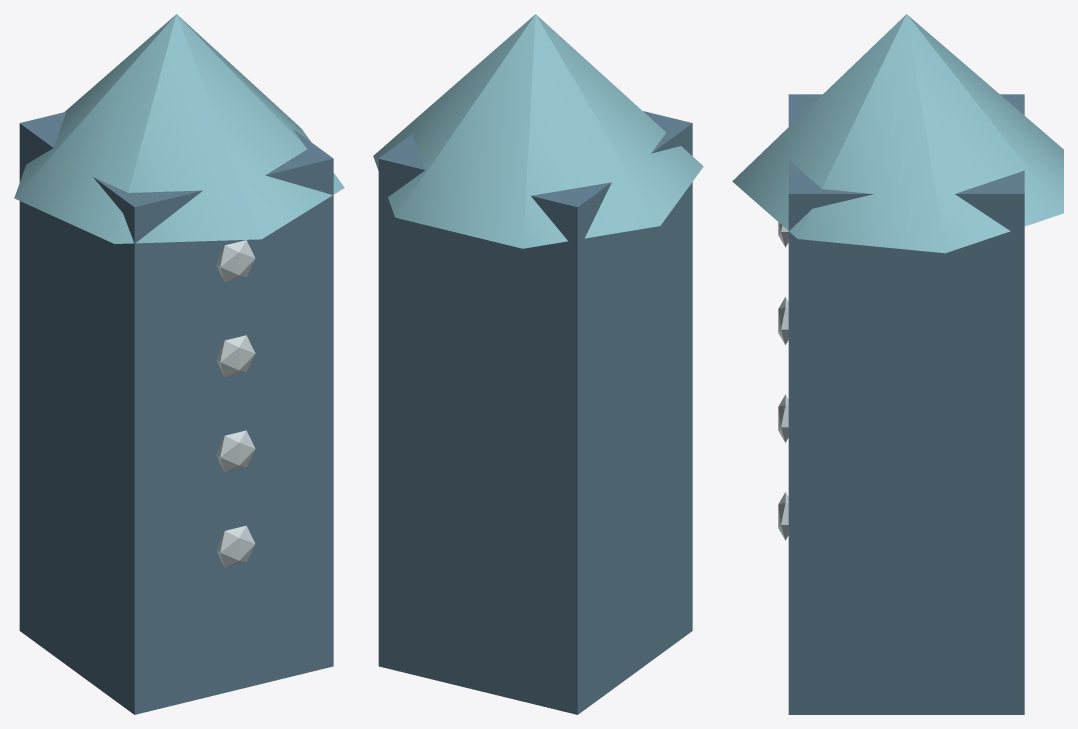
Rendered from watchtower.glb.
3 views of the same model, side by side, from view 1: azimuth 30°, elevation 25°; view 2: azimuth 150°, elevation 25°; view 3: azimuth 270°, elevation 25° (orthographic). The views are drawn at different scales.
Visible parts, largest first — view 1: tower_body, tower_crown, window_3, window_0, window_1, window_2; view 2: tower_body, tower_crown; view 3: tower_body, tower_crown.
Part boxes in pixels (<box>): tower_body: <box>19,111,333,714</box>; tower_crown: <box>14,14,344,243</box>; window_3: <box>216,240,255,282</box>; window_0: <box>216,525,255,567</box>; window_1: <box>216,430,255,472</box>; window_2: <box>216,335,255,377</box>; tower_body: <box>378,111,692,714</box>; tower_crown: <box>373,14,703,248</box>; tower_body: <box>788,94,1024,714</box>; tower_crown: <box>732,14,1063,253</box>.
Size of what is drawn, in the model's own units: 3.31 by 7 by 3.23.
